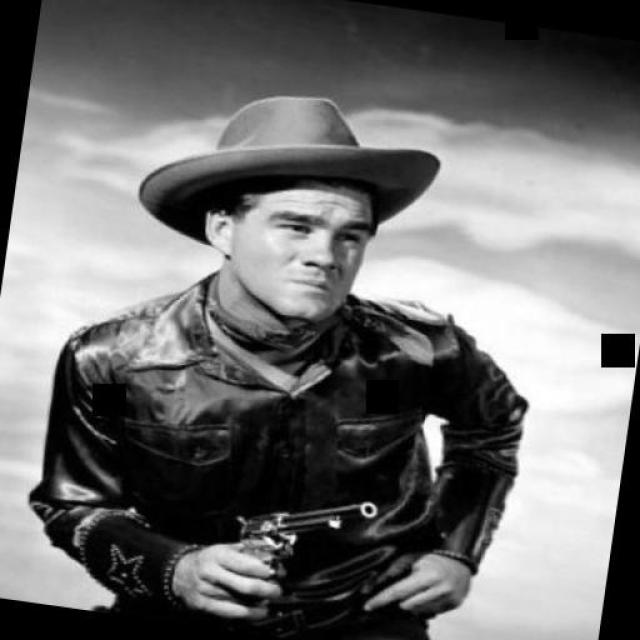gun: (218, 481, 382, 624)
